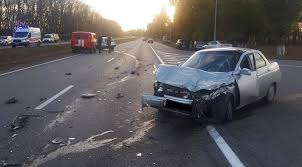car: (138, 30, 284, 124)
